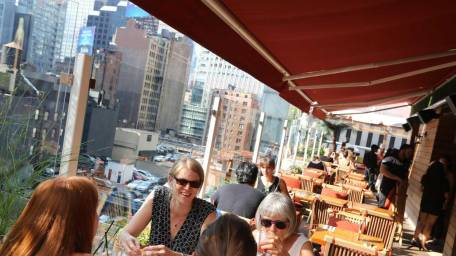drinking: (238, 191, 330, 255)
